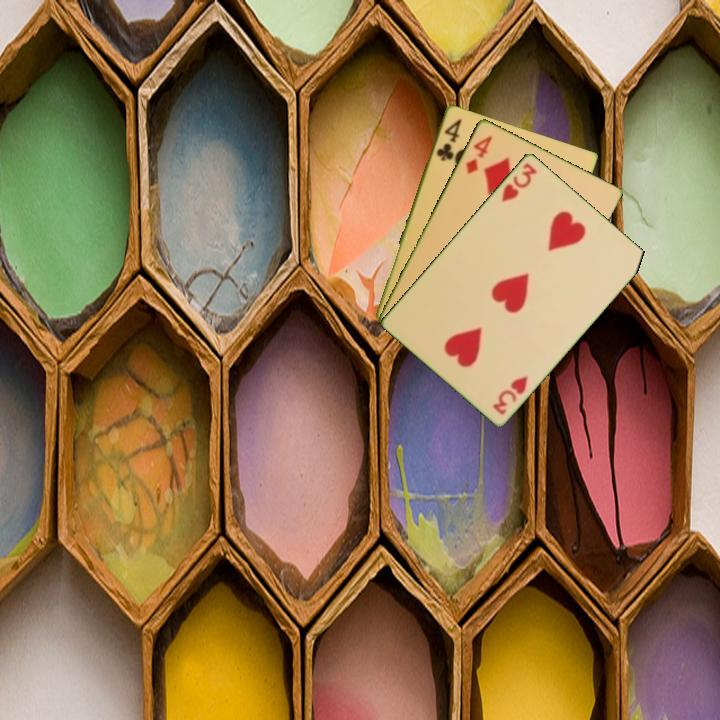3h: (489, 371, 531, 417), (498, 159, 540, 204)
4c: (433, 115, 464, 163)
4d: (462, 132, 495, 177)
